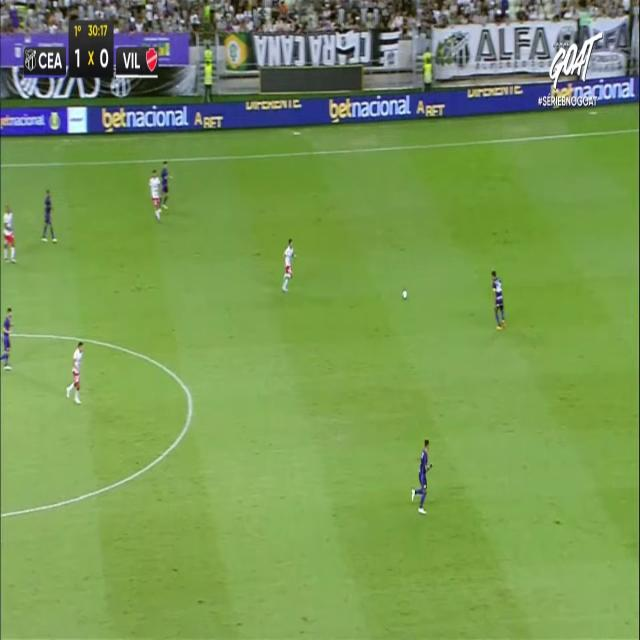ball: (401, 290, 407, 298)
player: (410, 438, 432, 514), (65, 341, 83, 404), (491, 268, 506, 330), (41, 188, 58, 242), (2, 203, 16, 263), (0, 306, 13, 370), (282, 238, 296, 292), (148, 168, 162, 220), (160, 159, 170, 209)
